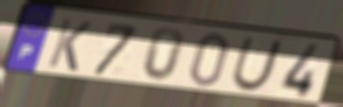0: (140, 26, 188, 84), (187, 32, 231, 89)
4: (277, 42, 319, 100)
7: (92, 22, 142, 77)
K: (45, 17, 95, 74)
U: (229, 36, 287, 94)
